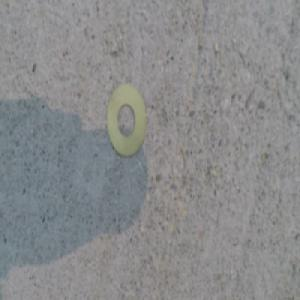Washer: (105, 79, 147, 156)
